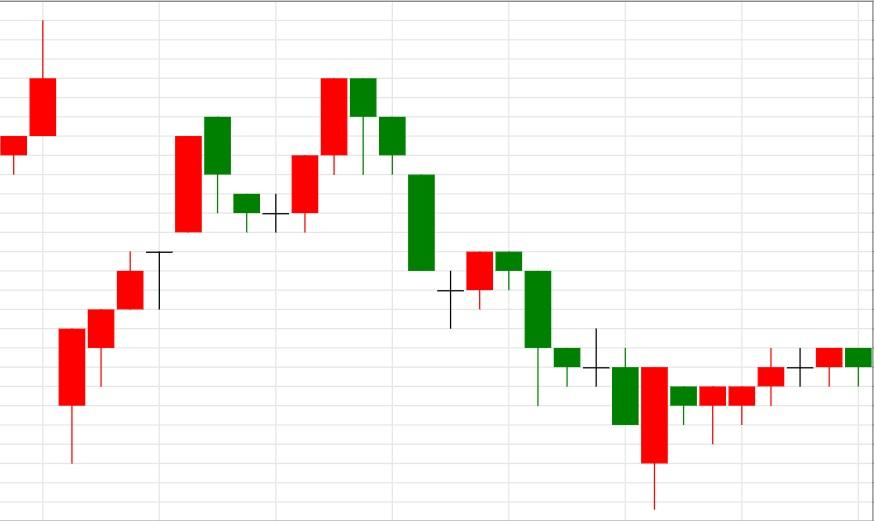three_black_crows_fall: (232, 78, 436, 271)
